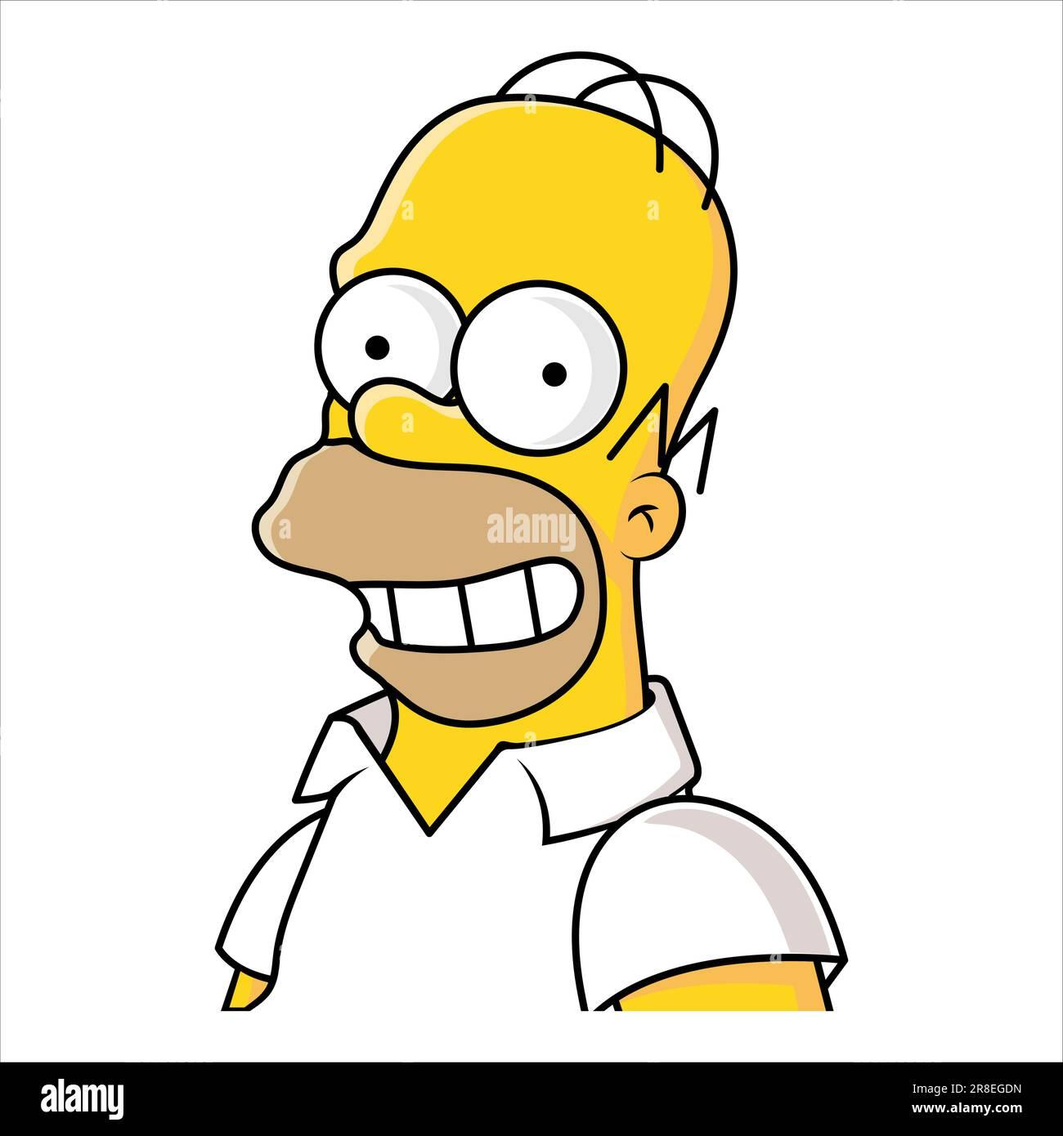Homer: (178, 37, 870, 1034)
